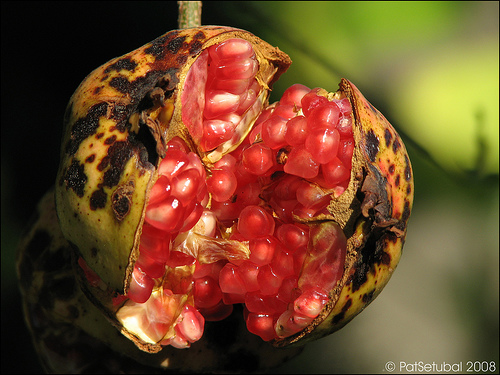pomogranate: (59, 25, 412, 354)
